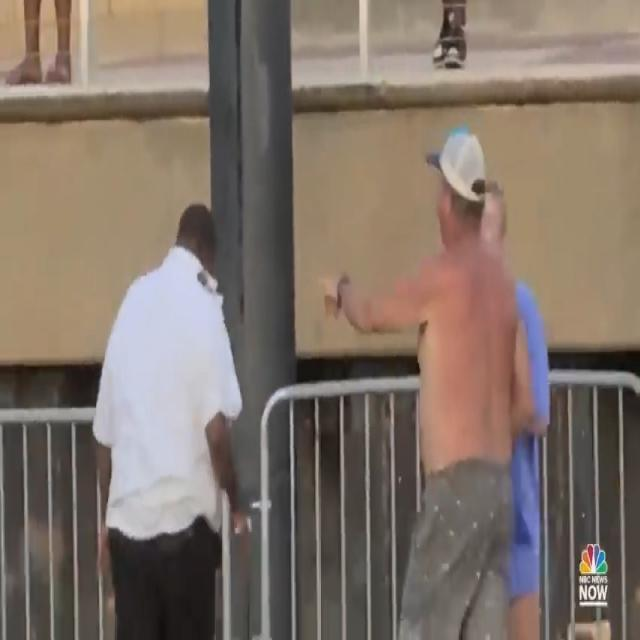non-fight: (317, 121, 552, 640), (91, 114, 254, 640)
